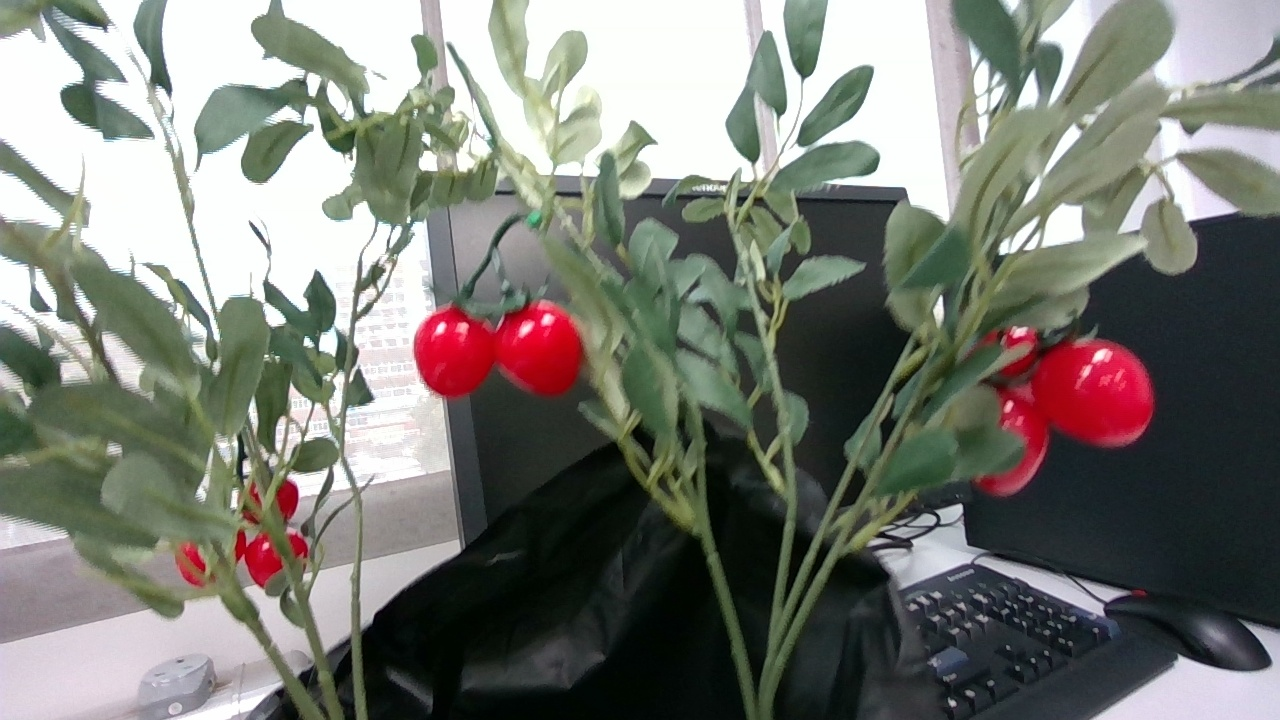peduncle: (489, 212, 519, 246), (237, 434, 244, 453)
strawberry: (1034, 339, 1157, 448), (495, 299, 583, 396), (975, 387, 1052, 496), (414, 304, 495, 398), (242, 532, 281, 588), (173, 541, 205, 588), (275, 479, 298, 520), (285, 529, 308, 560), (233, 530, 246, 562)
